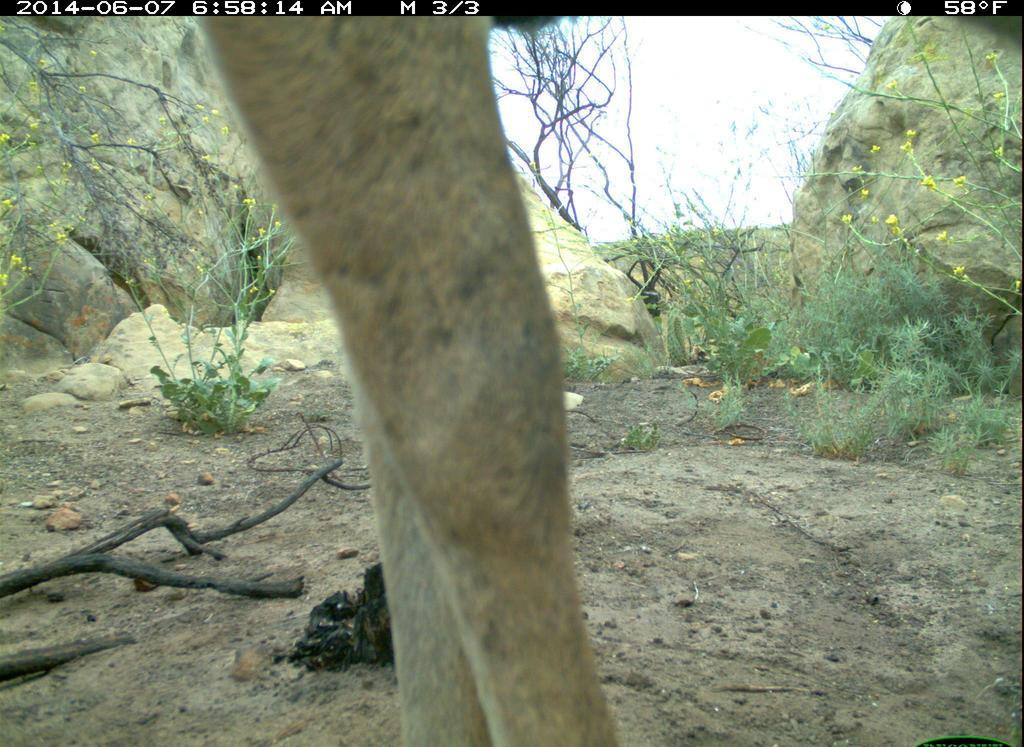deer: (191, 16, 626, 747)
